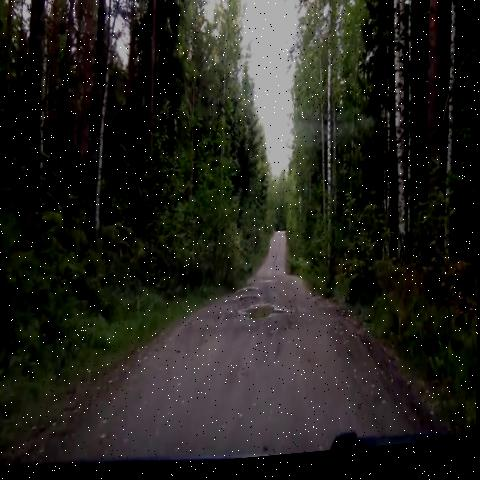pothole: (238, 297, 288, 339), (232, 277, 260, 313)
